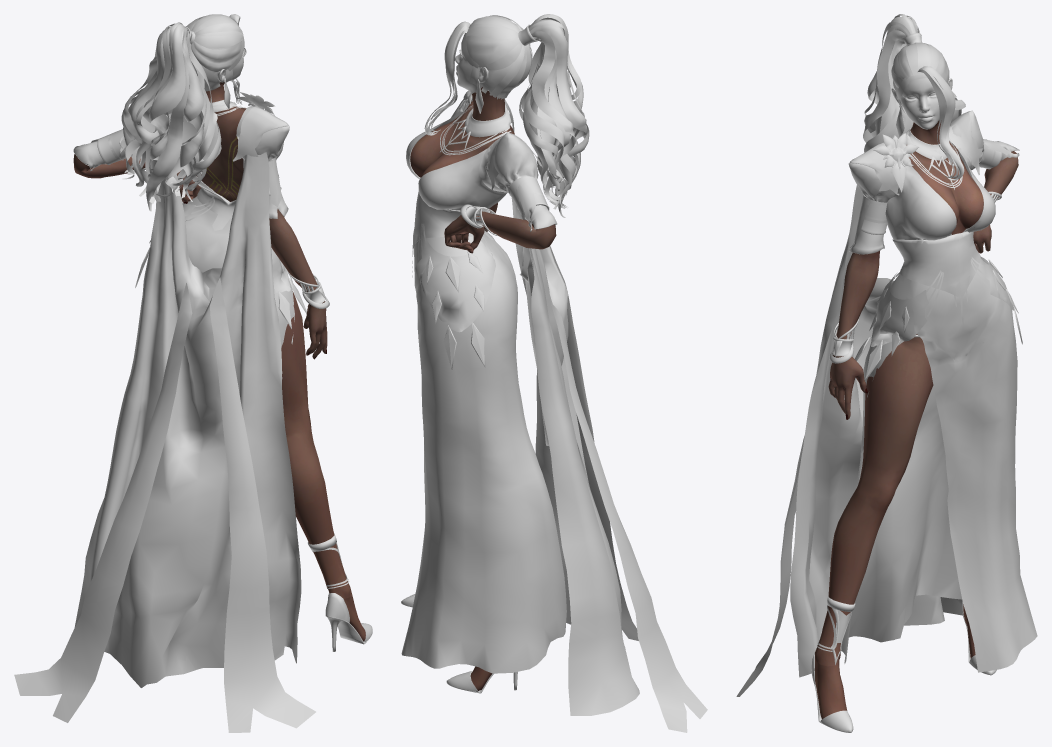
The model's file is Alleyana.fbx.
The picture shows the model from 3 angles, left to right: view 1: azimuth 30°, elevation 25°; view 2: azimuth 150°, elevation 25°; view 3: azimuth 270°, elevation 25°; orthographic projection. The views are drawn at different scales.
Visible parts, largest first — view 1: Alleyana; view 2: Alleyana; view 3: Alleyana.
Boxes of the visible parts, left/top/right/bottom form: Alleyana: left=14, top=14, right=372, bottom=732; Alleyana: left=401, top=14, right=707, bottom=732; Alleyana: left=736, top=14, right=1037, bottom=732.
Size of the model in its own units: 6.73 by 13.46 by 5.54.
